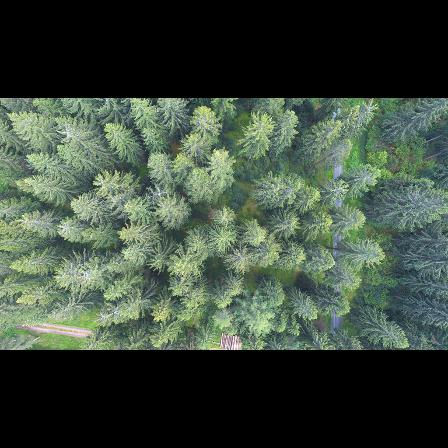Sick: (146, 182, 172, 202), (105, 300, 124, 323), (92, 172, 112, 189), (56, 220, 74, 238)
